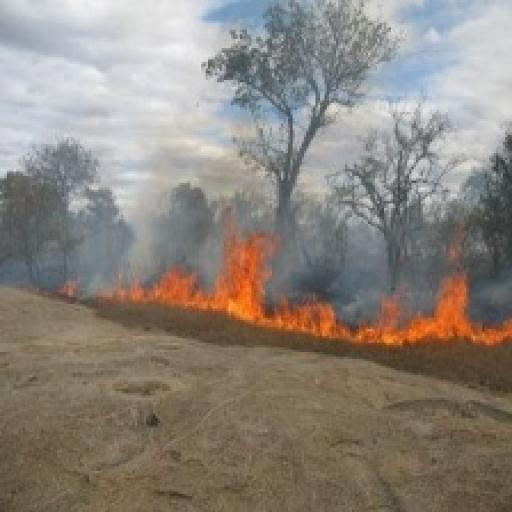fire and smoke: (101, 224, 511, 345)
